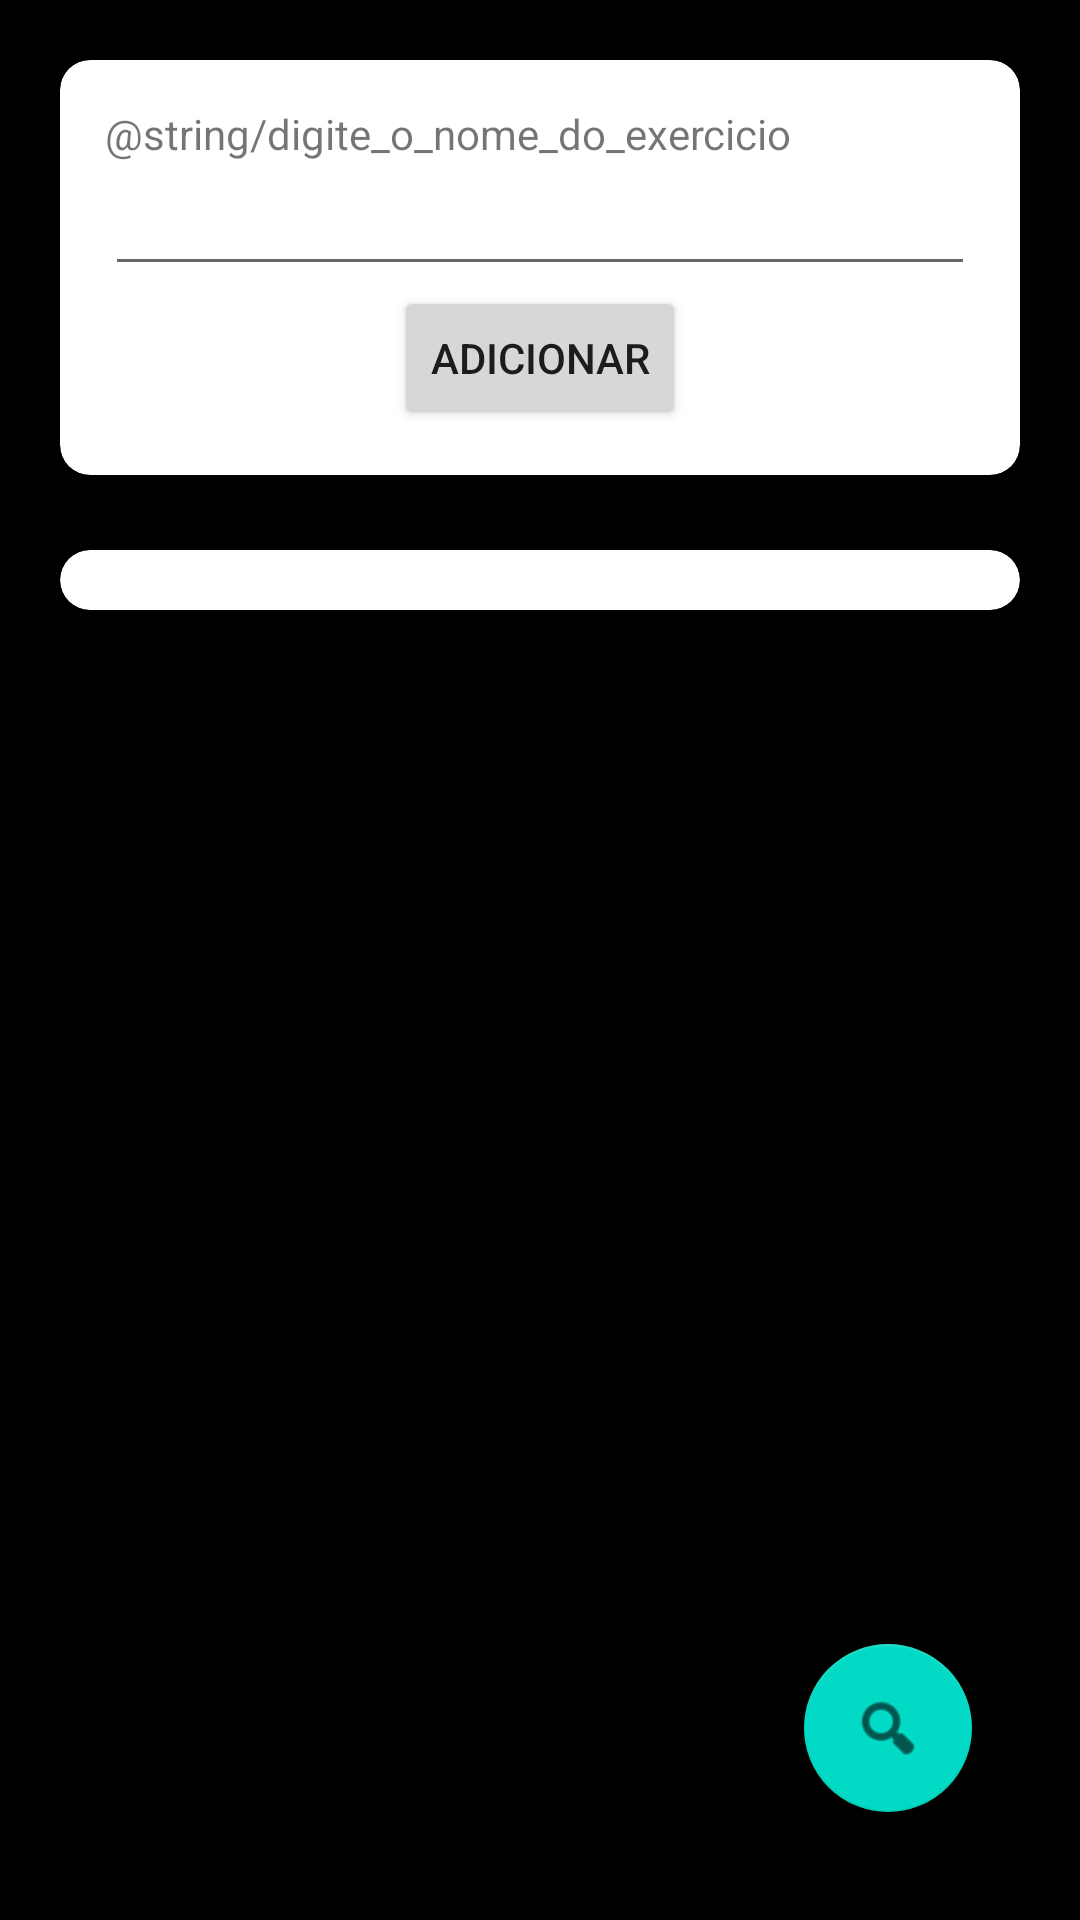

Where to tap for icons on this 1080w x 1920h app screen, as point (x, y):
Pesquisa exercicio: point (888, 1728)
